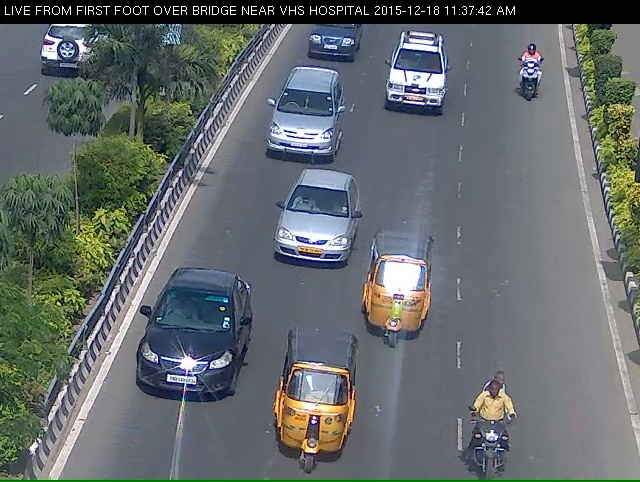Auto: (271, 357, 353, 481), (359, 246, 443, 364)
Car: (122, 299, 243, 450), (261, 191, 362, 291), (261, 84, 343, 176), (389, 44, 459, 138), (299, 20, 363, 69)
Person: (467, 391, 529, 478), (512, 50, 549, 117)
